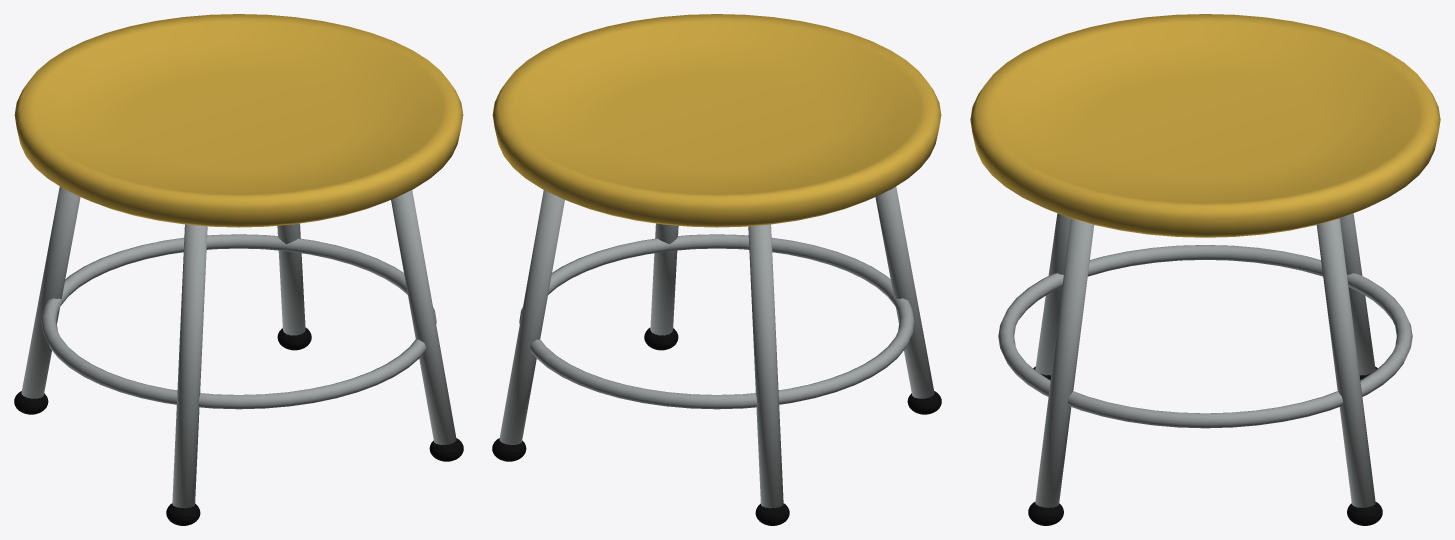
Rendered from kid-stool.glb.
The picture shows the model from 3 angles, left to right: view 1: azimuth 30°, elevation 25°; view 2: azimuth 150°, elevation 25°; view 3: azimuth 270°, elevation 25°; orthographic projection. The views are drawn at different scales.
Parts seen in each view (by area): view 1: StoolSeat, Torus, Zylinder, Zylinder.002, Zylinder.001, Zylinder.003, Kugel, Kugel.002, Kugel.001, Kugel.003; view 2: StoolSeat, Torus, Zylinder.001, Zylinder.003, Zylinder, Zylinder.002, Kugel.001, Kugel.003, Kugel, Kugel.002; view 3: StoolSeat, Torus, Zylinder.002, Zylinder.003, Zylinder, Zylinder.001, Kugel.002, Kugel.003.
Part boxes in pixels (box(x1,y1,x2,y2)): StoolSeat: box(14, 14, 463, 227); Torus: box(41, 234, 436, 409); Zylinder: box(172, 224, 207, 508); Zylinder.002: box(391, 190, 456, 444); Zylinder.001: box(21, 186, 80, 398); Zylinder.003: box(277, 223, 305, 335); Kugel: box(166, 503, 200, 525); Kugel.002: box(429, 438, 463, 461); Kugel.001: box(14, 391, 48, 414); Kugel.003: box(277, 328, 311, 350); StoolSeat: box(492, 14, 941, 227); Torus: box(519, 234, 914, 409); Zylinder.001: box(748, 224, 783, 508); Zylinder.003: box(499, 190, 564, 444); Zylinder: box(875, 186, 934, 398); Zylinder.002: box(650, 223, 678, 335); Kugel.001: box(755, 503, 789, 525); Kugel.003: box(492, 438, 526, 461); Kugel: box(907, 391, 941, 414); Kugel.002: box(644, 328, 678, 350); StoolSeat: box(970, 14, 1440, 237); Torus: box(998, 245, 1412, 428); Zylinder.002: box(1035, 218, 1094, 507); Zylinder.003: box(1316, 218, 1375, 507); Zylinder: box(1035, 213, 1070, 375); Zylinder.001: box(1340, 213, 1375, 375); Kugel.002: box(1028, 502, 1063, 525); Kugel.003: box(1347, 502, 1382, 525).
Bounding box in the file's own units: 0.472 × 0.3826 × 0.472.
